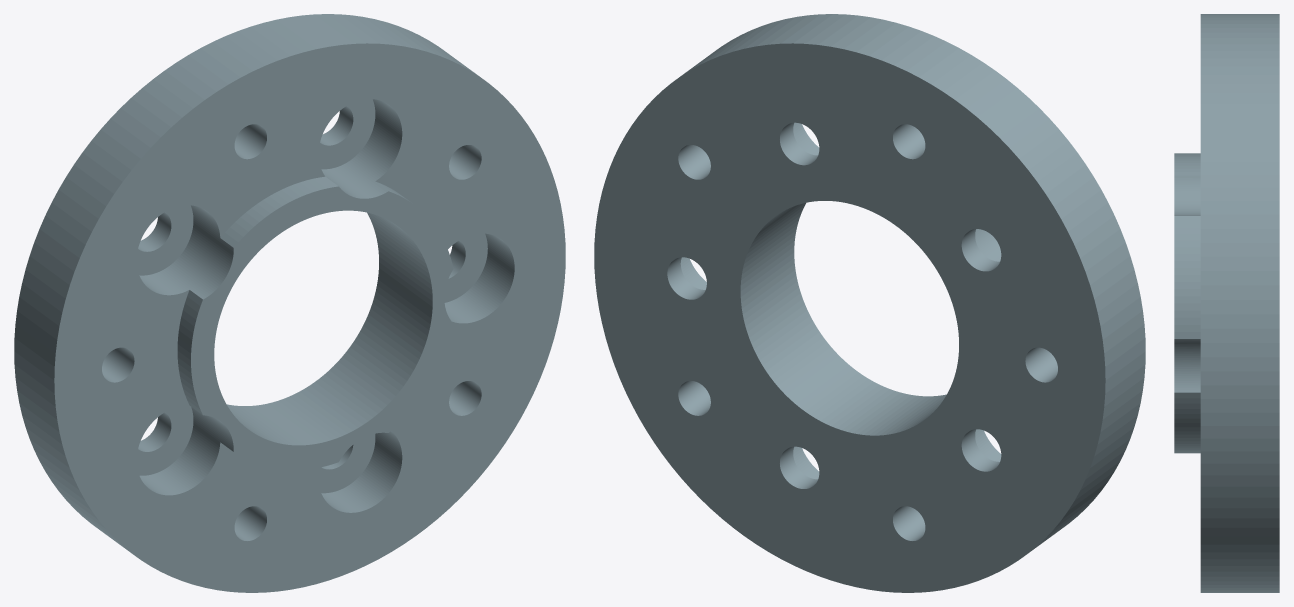
The model's file is wheel_adapter_C02_R01.glb.
3 renders of one model, left to right at view 1: azimuth 30°, elevation 25°; view 2: azimuth 150°, elevation 25°; view 3: azimuth 270°, elevation 25°, orthographic.
Parts seen in each view (by area): view 1: wheel_adapter_C02_R01; view 2: wheel_adapter_C02_R01; view 3: wheel_adapter_C02_R01.
Part boxes in pixels (left/top/right/bottom): wheel_adapter_C02_R01: left=14, top=14, right=565, bottom=592; wheel_adapter_C02_R01: left=594, top=14, right=1145, bottom=592; wheel_adapter_C02_R01: left=1174, top=14, right=1279, bottom=592.
Size of the model in its own units: 0.22 by 0.2199 by 0.04.
